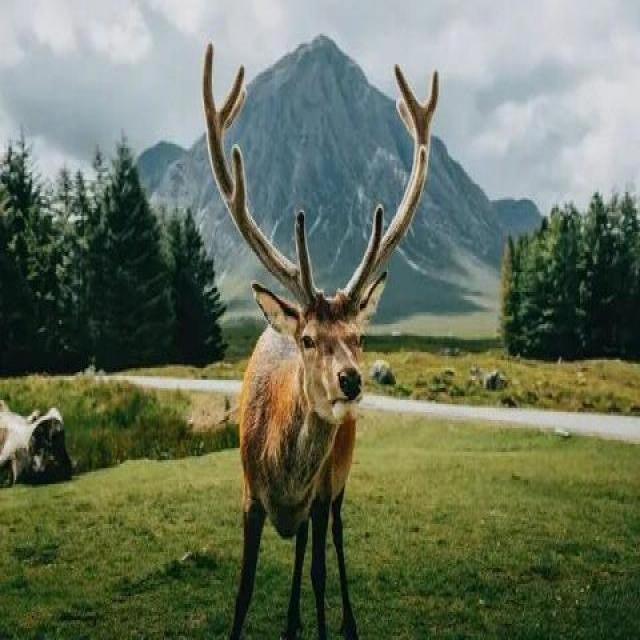deer: (218, 202, 426, 550)
